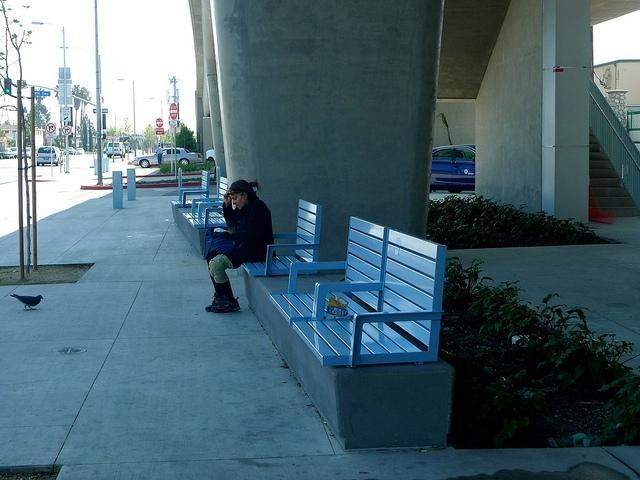car: (429, 143, 479, 192), (130, 148, 202, 168), (37, 146, 63, 166), (106, 142, 126, 158), (3, 147, 18, 158), (206, 148, 216, 161), (76, 148, 84, 154)
